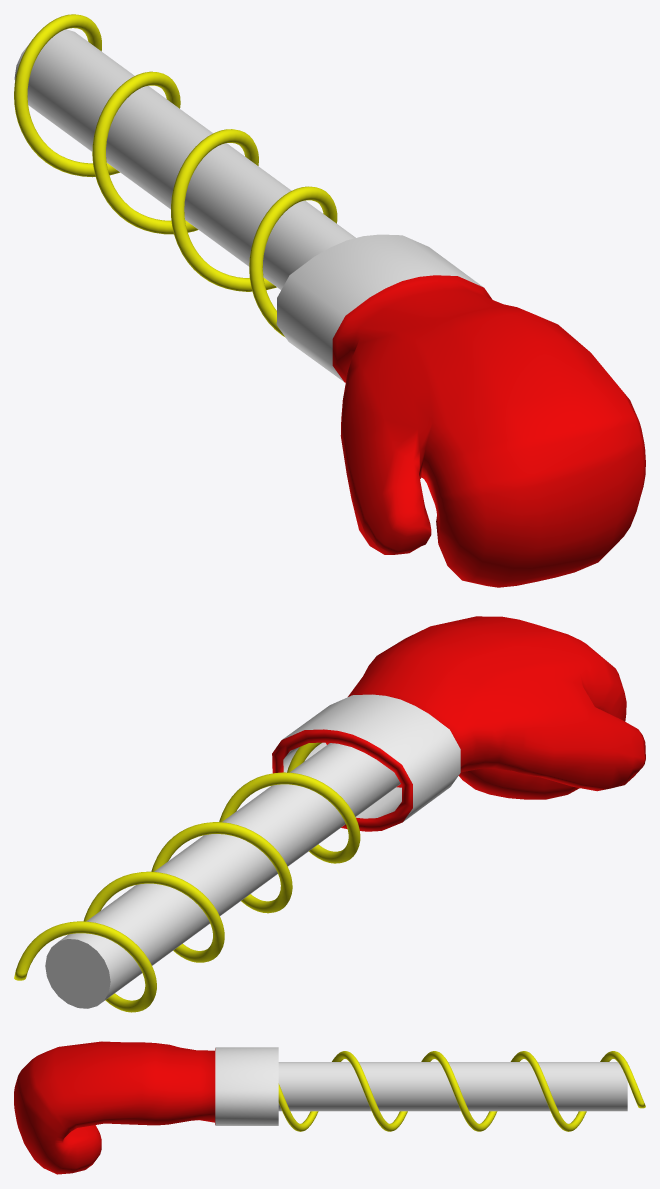
Rendered from Level6.fbx.
3 renders of one model, top to bottom at view 1: azimuth 30°, elevation 25°; view 2: azimuth 150°, elevation 25°; view 3: azimuth 270°, elevation 25°, orthographic. The views are drawn at different scales.
Visible parts, largest first — view 1: polySurface1, pCylinder12, pHelix1; view 2: polySurface1, pCylinder12, pHelix1; view 3: polySurface1, pCylinder12, pHelix1.
Boxes of the visible parts, x1,y1,x2,y2 form: polySurface1: (276, 234, 645, 587); pCylinder12: (14, 29, 355, 289); pHelix1: (14, 14, 337, 337); polySurface1: (272, 616, 645, 831); pCylinder12: (45, 743, 400, 1008); pHelix1: (14, 742, 360, 1012); polySurface1: (14, 1041, 278, 1174); pCylinder12: (278, 1062, 627, 1111); pHelix1: (278, 1051, 645, 1131).
Bounding box in the file's own units: 14.38 × 10.86 × 53.59.
